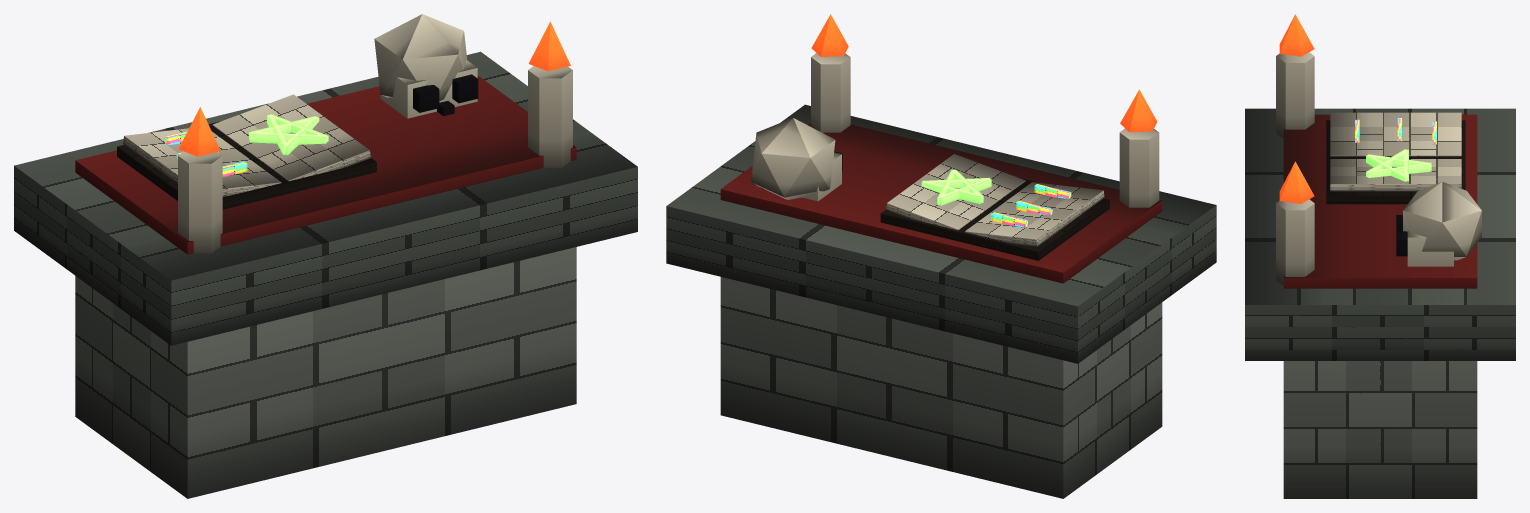
The model's file is ritual_altar.glb.
3 renders of one model, left to right at view 1: azimuth 30°, elevation 25°; view 2: azimuth 150°, elevation 25°; view 3: azimuth 270°, elevation 25°, orthographic. The views are drawn at different scales.
Parts seen in each view (by area): view 1: ritual_altar; view 2: ritual_altar; view 3: ritual_altar.
Part boxes in pixels (box(x1,y1,x2,y2)): ritual_altar: box(14, 14, 637, 498); ritual_altar: box(666, 14, 1216, 498); ritual_altar: box(1245, 14, 1515, 498).
Size of the model in its own units: 1.2 by 0.94 by 0.7.
1 material, 1 textured.
